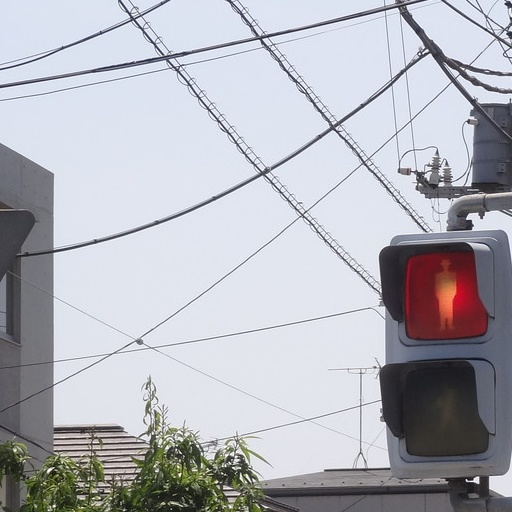Pedestrian_Signal_Red: (375, 227, 510, 475)
